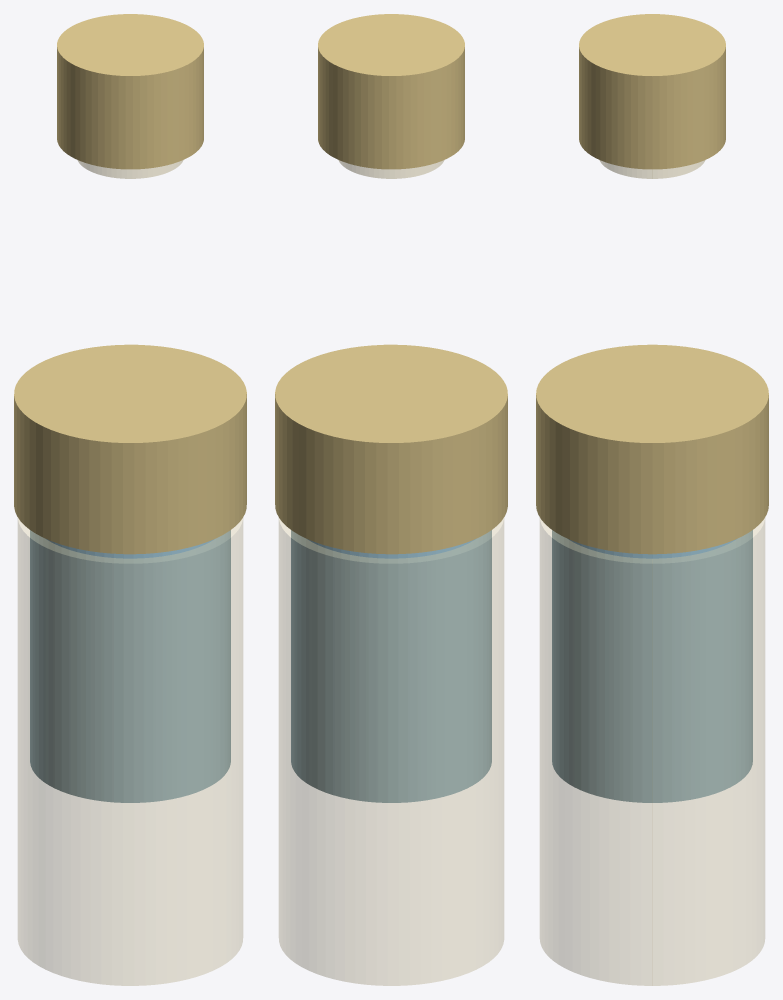
The model's file is vial.glb.
3 renders of one model, left to right at view 1: azimuth 30°, elevation 25°; view 2: azimuth 150°, elevation 25°; view 3: azimuth 270°, elevation 25°, orthographic.
Parts seen in each view (by area): view 1: body, liquid, label, cap, neck; view 2: body, liquid, label, cap, neck; view 3: body, liquid, label, cap, neck.
Boxes of the visible parts, <box> form: body: <box>18,518,242,985</box>; liquid: <box>30,530,230,802</box>; label: <box>14,344,246,554</box>; cap: <box>57,14,203,169</box>; neck: <box>77,160,183,178</box>; body: <box>279,518,503,985</box>; liquid: <box>291,530,491,802</box>; label: <box>275,344,507,554</box>; cap: <box>318,14,464,169</box>; neck: <box>338,160,444,178</box>; body: <box>540,518,764,985</box>; liquid: <box>552,530,752,802</box>; label: <box>536,344,768,554</box>; cap: <box>579,14,725,169</box>; neck: <box>599,160,705,178</box>.
Size of the model in its own units: 0.95 by 4.02 by 0.95.
